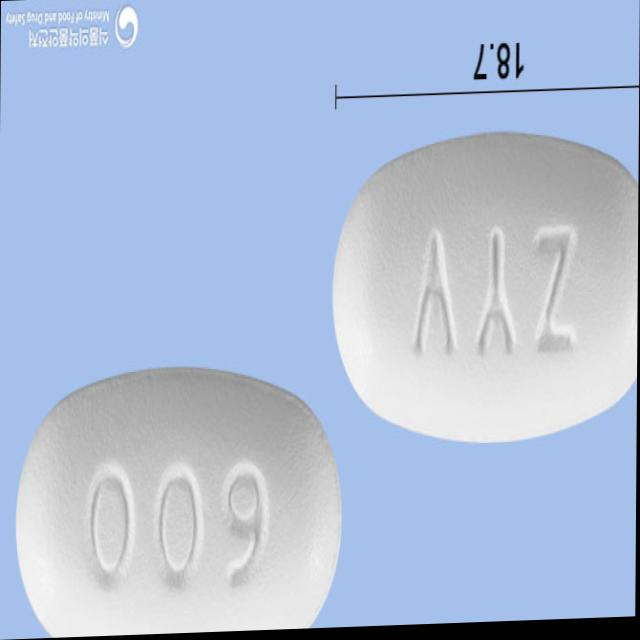Clarix: (329, 132, 639, 456), (14, 361, 343, 639)
